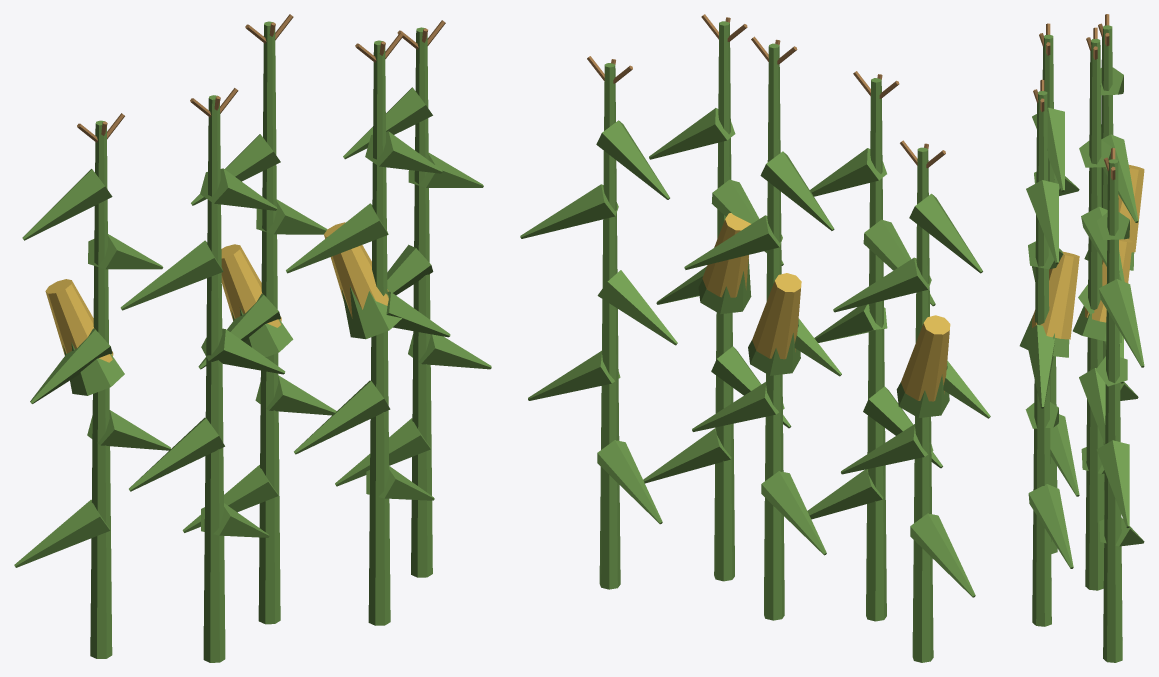
File: corn_row.glb
3 renders of one model, left to right at view 1: azimuth 30°, elevation 25°; view 2: azimuth 150°, elevation 25°; view 3: azimuth 270°, elevation 25°, orthographic. The views are drawn at different scales.
Visible parts, largest first — view 1: corn_row; view 2: corn_row; view 3: corn_row.
Part boxes in pixels (x1=…): corn_row: x1=14, y1=14, x2=491, y2=662; corn_row: x1=520, y1=14, x2=990, y2=662; corn_row: x1=1019, y1=14, x2=1144, y2=662.
Bounding box in the file's own units: 1.69 × 2.06 × 0.4241.
